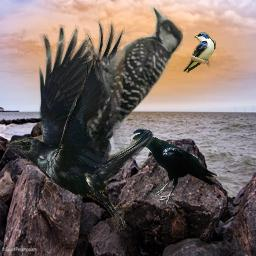Crow: (6, 18, 154, 231), (130, 128, 217, 204)
Swallow: (183, 32, 216, 73)
Woodpecker: (87, 1, 183, 156)
